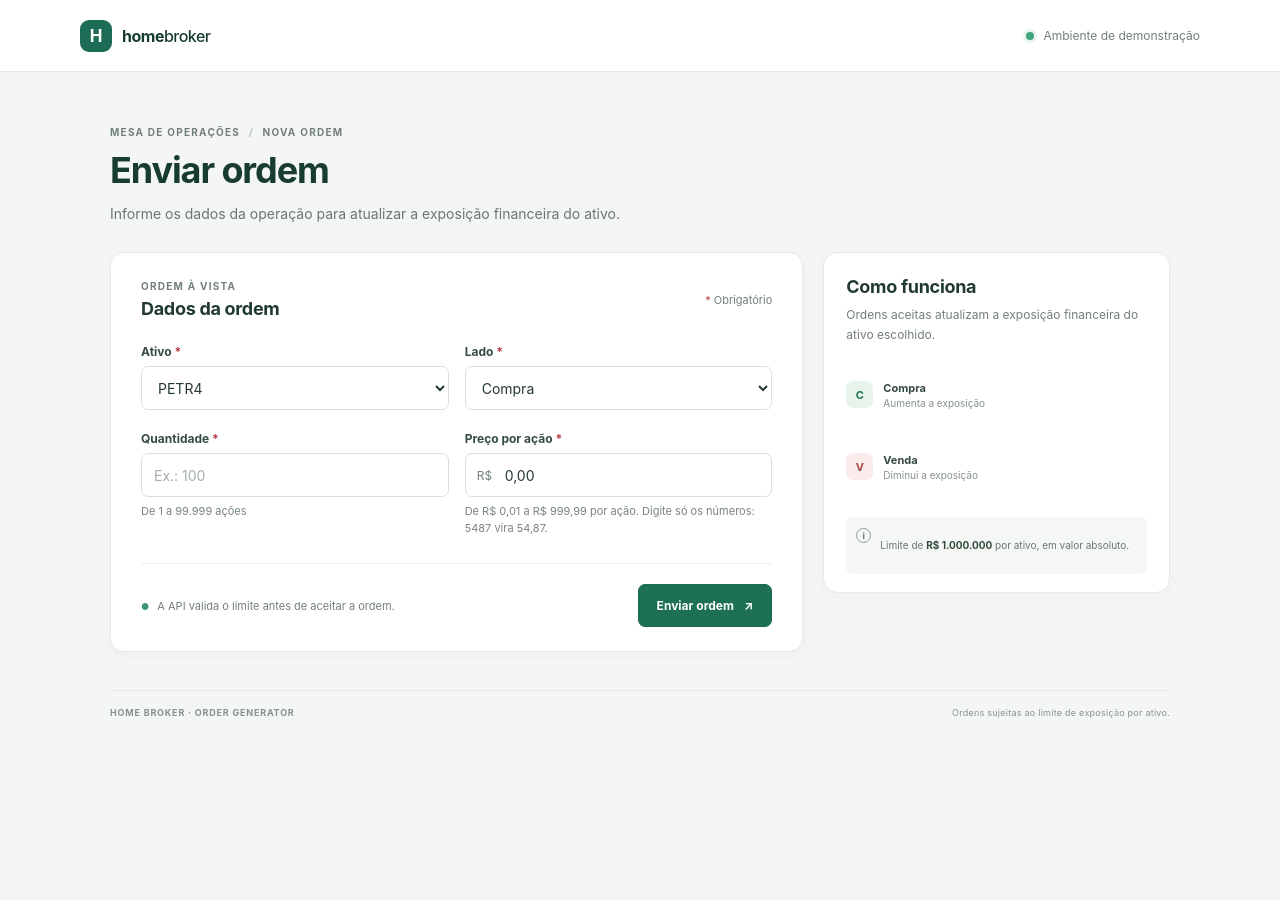
Test case: OrderGenerator form › sends Venda (V) with numeric fields from price 54.87
Select "VALE3" in the dropdown labelled "Ativo" at (295, 388), box [141, 366, 449, 410]
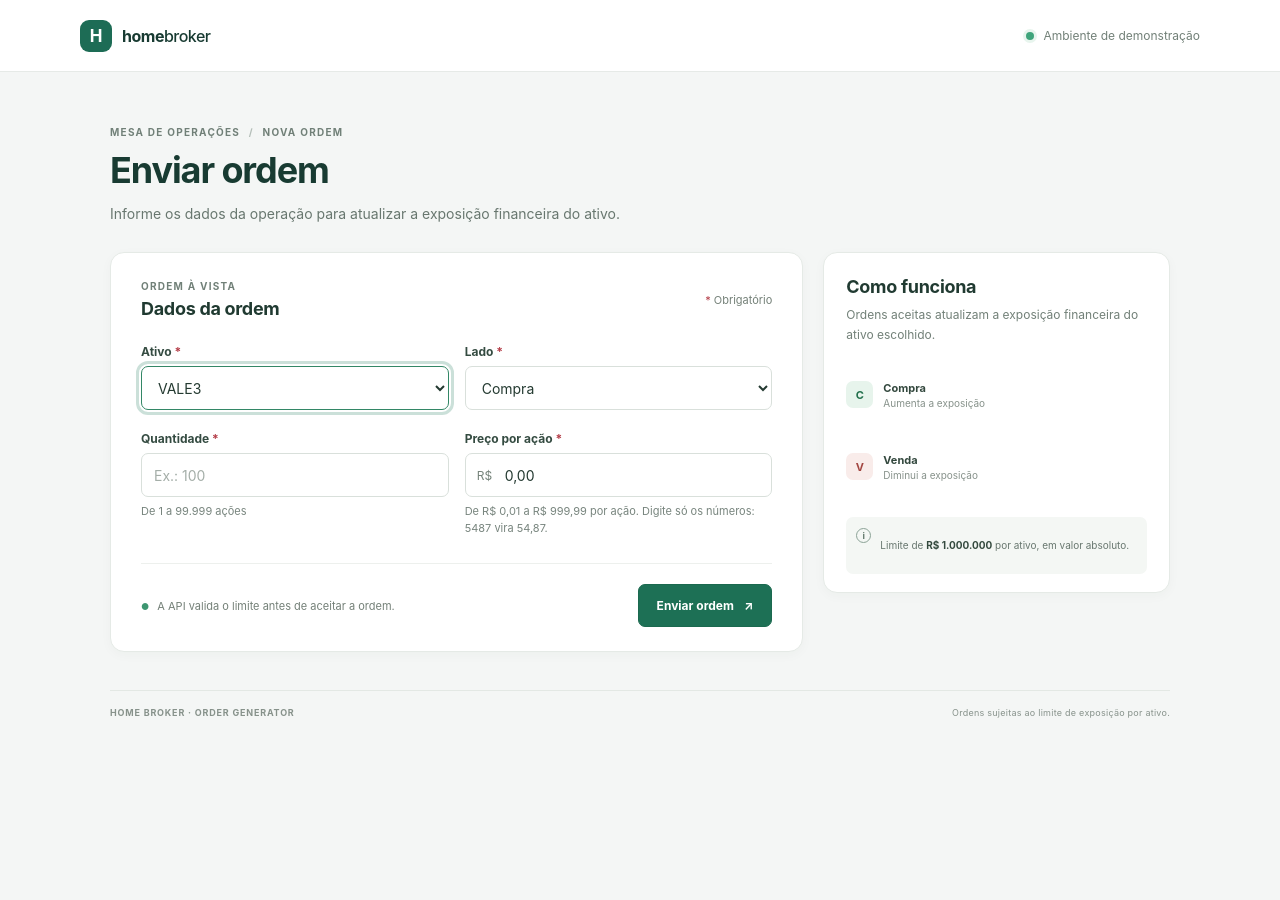
Select "Venda" in the dropdown labelled "Lado" at (619, 388), box [465, 366, 772, 410]
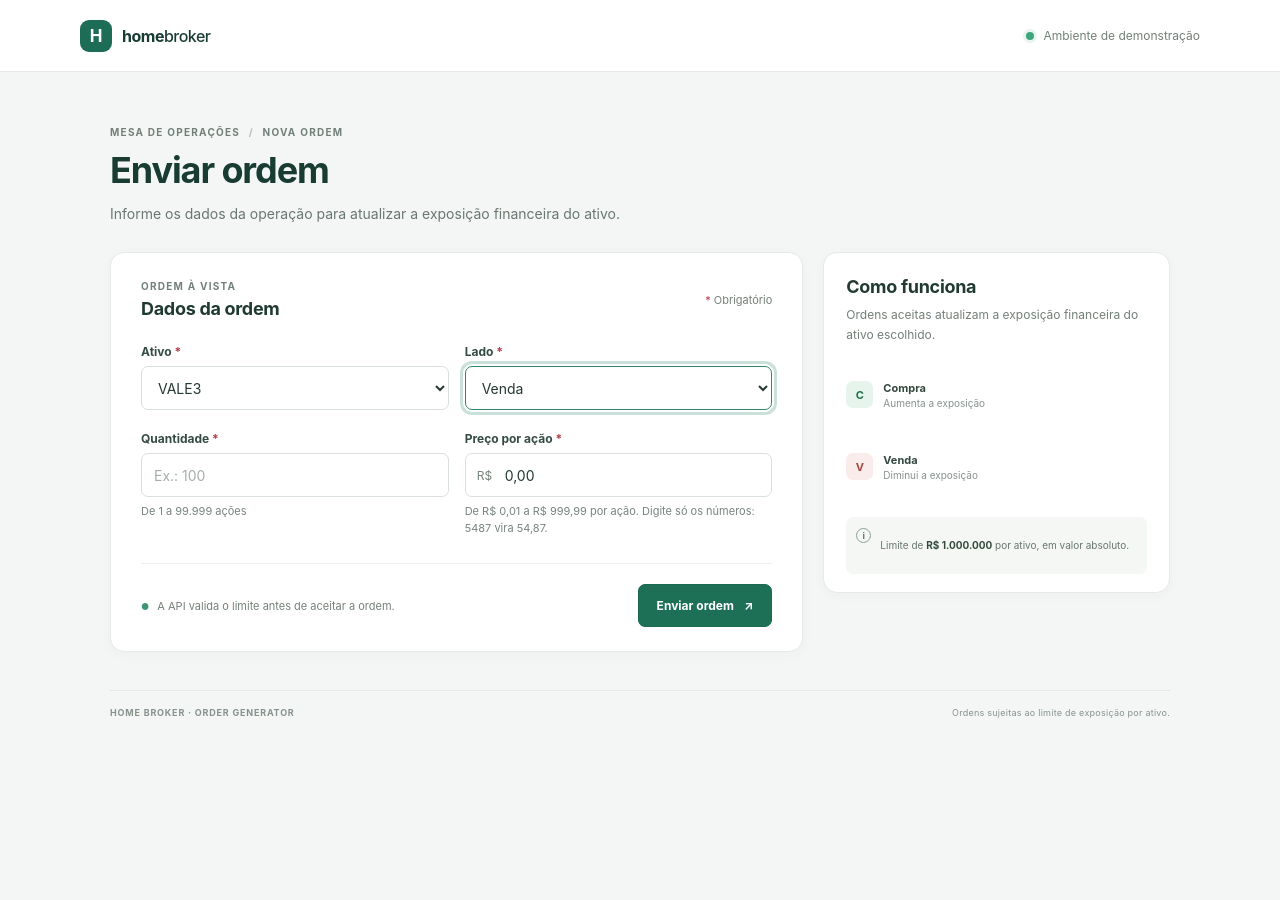
Type "584" into the field labelled "Quantidade".
click(295, 475); type("584")  # box [141, 453, 449, 497]
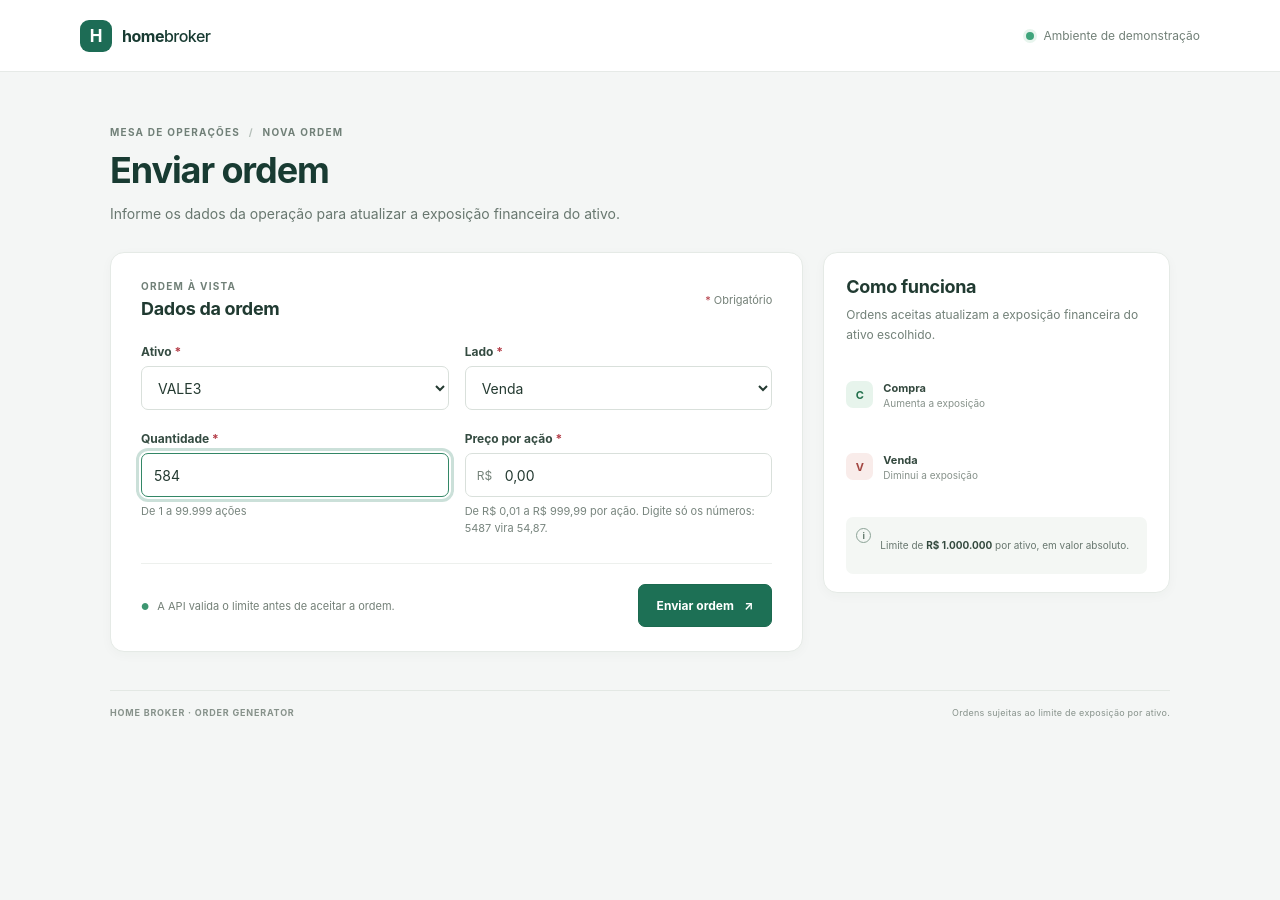
Type "54.87" into the field labelled "Preço por ação".
click(619, 475); type("54.87")  # box [465, 453, 772, 497]
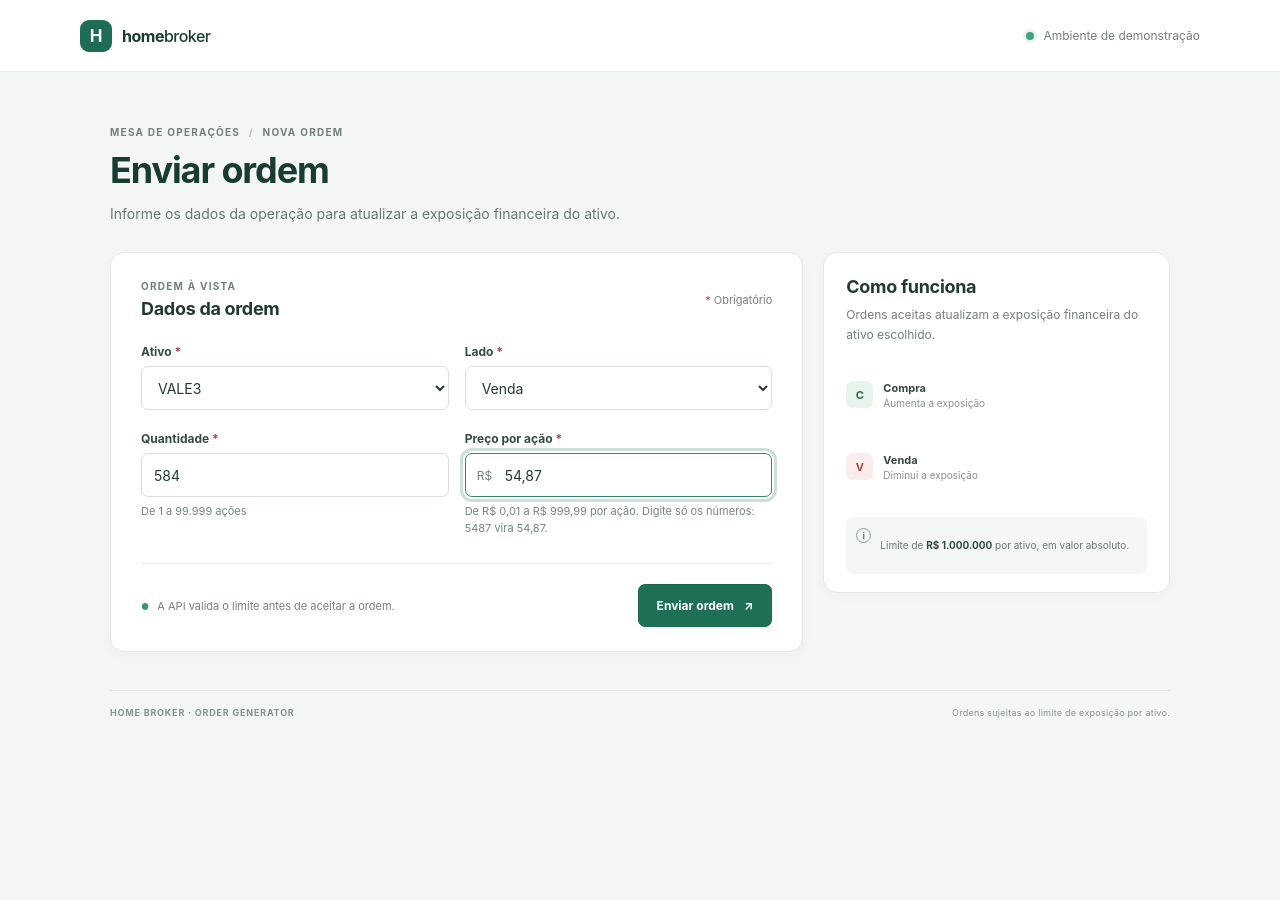
Click the button "Enviar ordem ↗".
click(705, 606)  # box [638, 584, 772, 627]
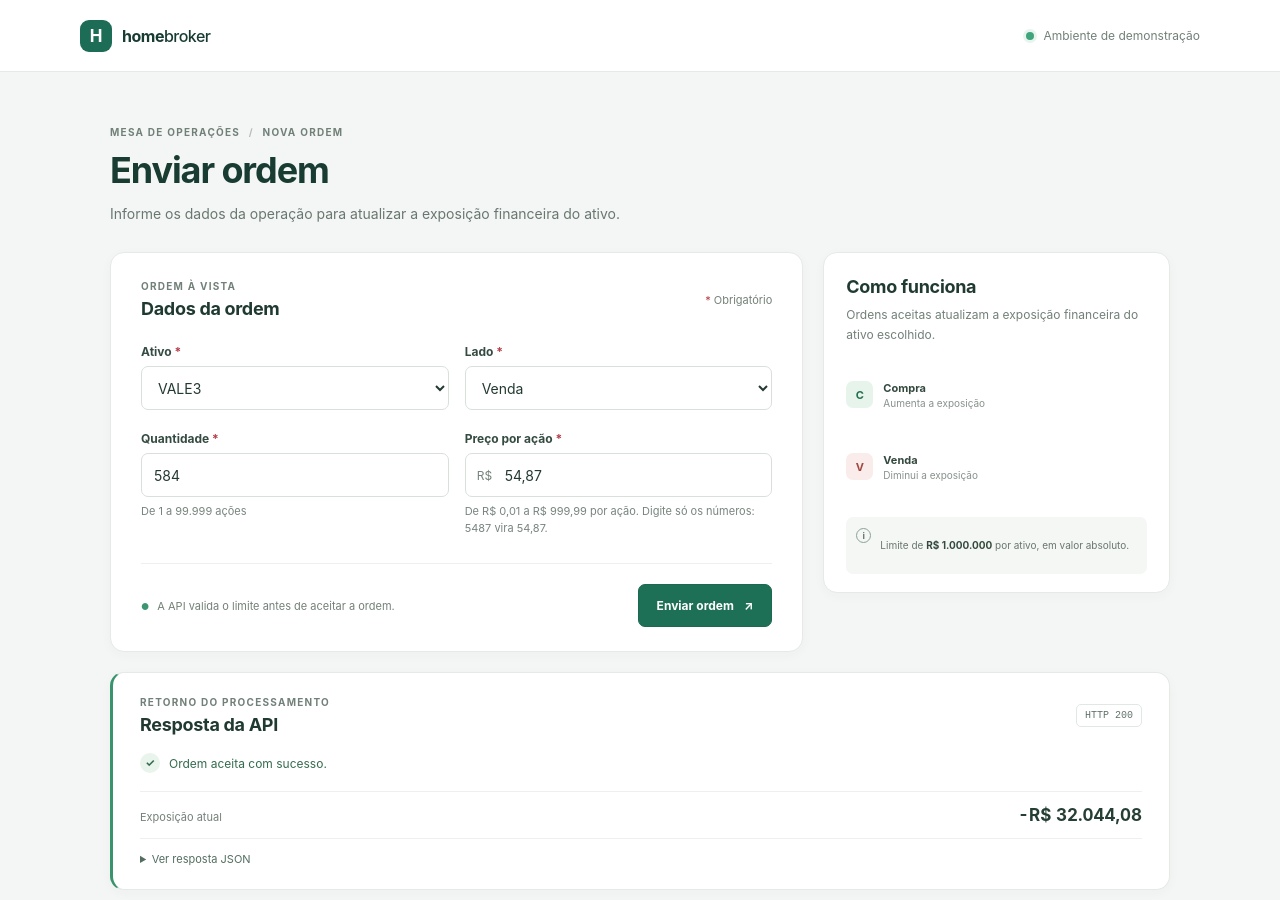
Now the heading "Resposta da API" is shown, box [140, 714, 278, 735]
Now the text "-R$ 32.044,08" is shown, box [1018, 805, 1142, 825]
Now the text "HTTP 200" is shown, box [1076, 704, 1142, 727]
